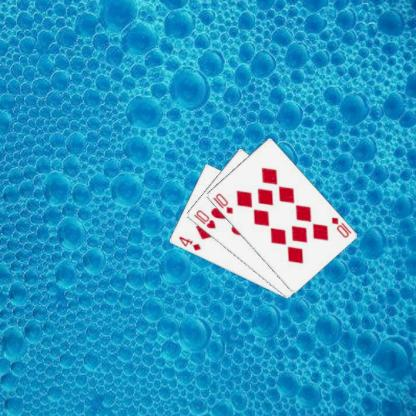10D: (210, 191, 234, 215), (328, 215, 352, 239)
10H: (191, 208, 217, 230)
4D: (176, 234, 202, 252)
